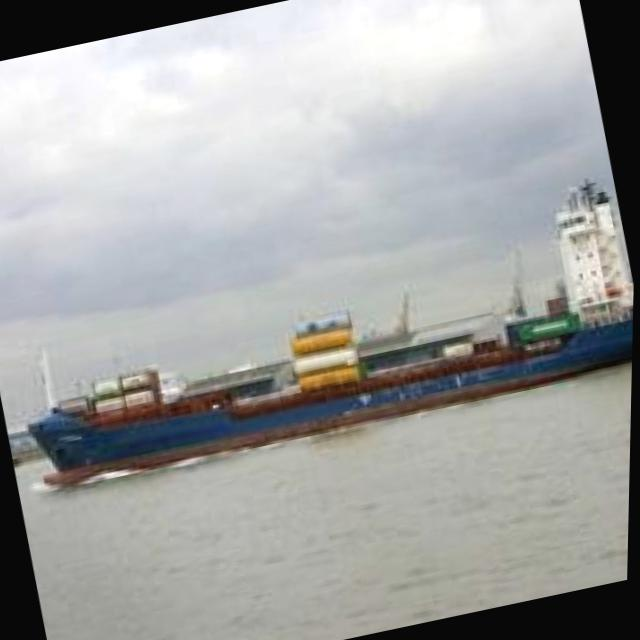ship2: (27, 175, 635, 491)
